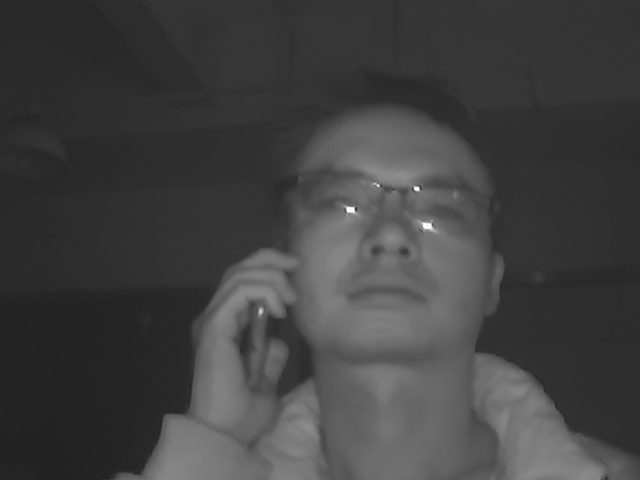hand: (183, 247, 299, 452)
